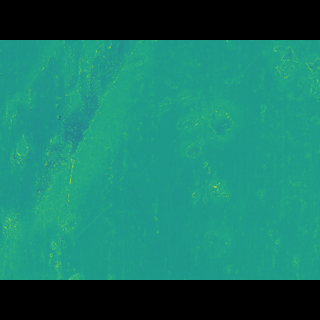Loch: (0, 71, 143, 247), (181, 118, 233, 194), (194, 213, 234, 235)
